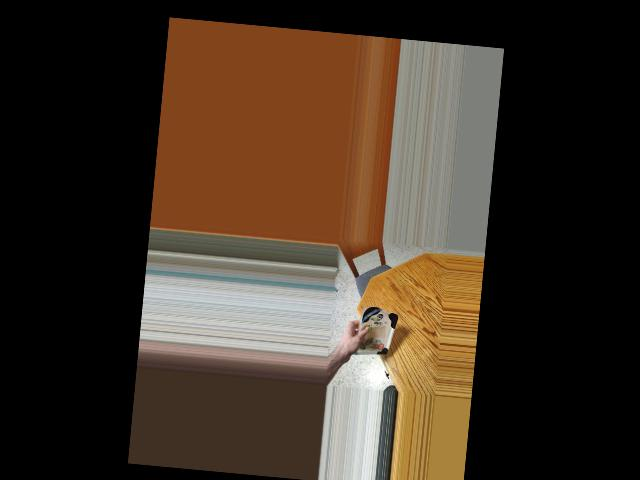cheese: (354, 302, 395, 364)
